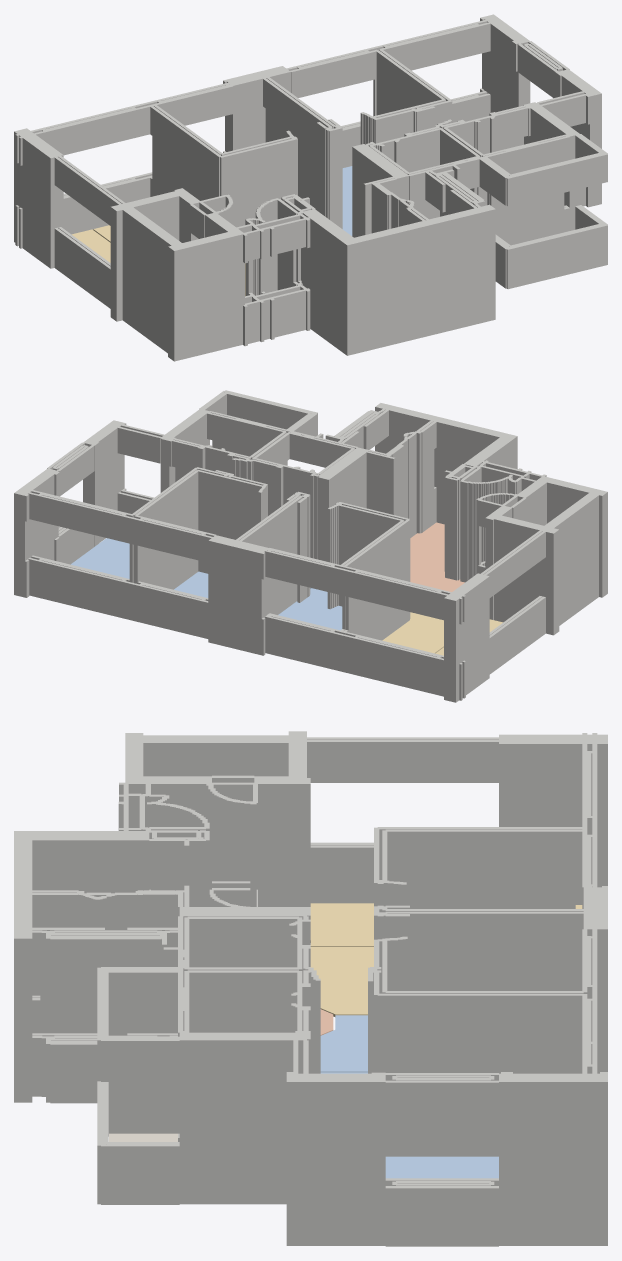
3 views of the same model, one above another, from view 1: azimuth 30°, elevation 25°; view 2: azimuth 150°, elevation 25°; view 3: azimuth 270°, elevation 25° (orthographic). The views are drawn at different scales.
Visible parts, largest first — view 1: walls, room:bedroom:3, room:living:0; view 2: walls, room:kitchen:4, room:living:1, room:bedroom:7, room:bedroom:2, room:bedroom:3; view 3: walls, room:living:1, room:living:0, room:bedroom:7, room:bedroom:2.
Part boxes in pixels (x1,y1,x2,y2): walls: [14, 14, 607, 361]; room:bedroom:3: [342, 166, 352, 235]; room:living:0: [72, 229, 110, 262]; walls: [14, 390, 607, 702]; room:kitchen:4: [410, 522, 464, 591]; room:living:1: [382, 612, 443, 653]; room:bedroom:7: [71, 538, 129, 578]; room:bedroom:2: [278, 588, 342, 630]; room:bedroom:3: [174, 571, 311, 597]; walls: [14, 731, 607, 1246]; room:living:1: [310, 947, 373, 1016]; room:living:0: [310, 903, 582, 946]; room:bedroom:7: [385, 1156, 498, 1178]; room:bedroom:2: [320, 1015, 367, 1072].
Bounding box in the file's own units: 12.87 × 2.8 × 9.19.
